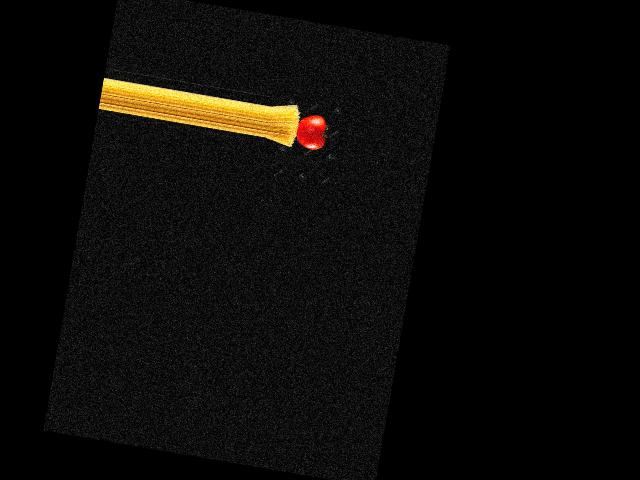tomato: (294, 112, 328, 150)
